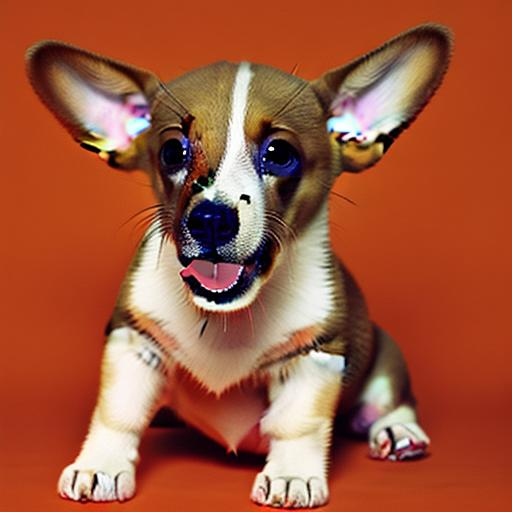eye: (153, 137, 202, 175), (256, 134, 302, 174)
